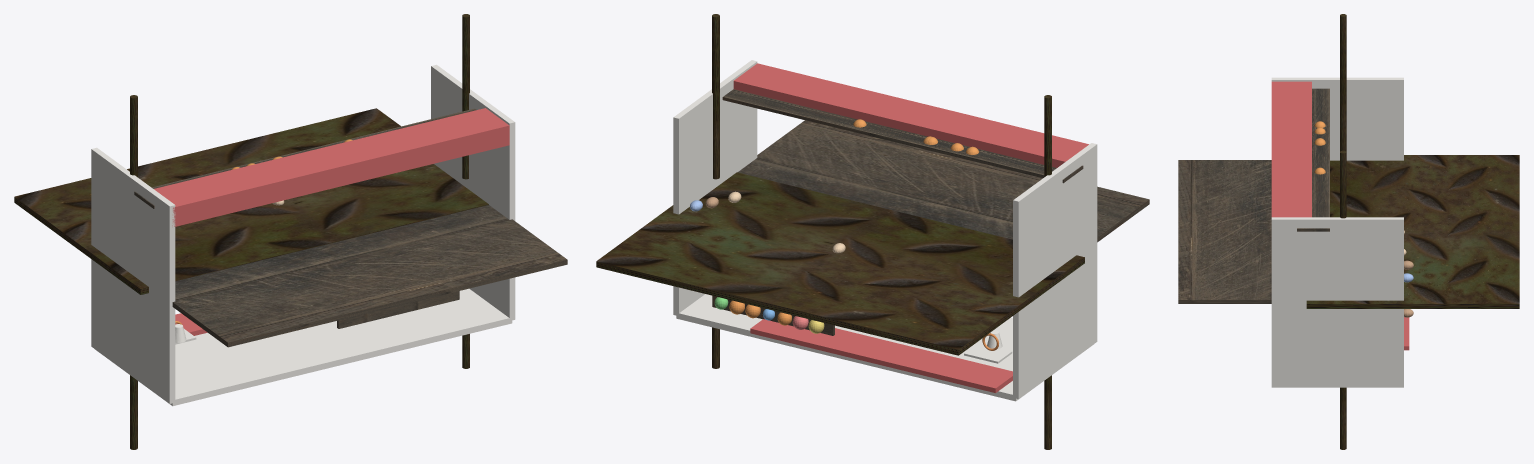
The model's file is booth_complete.glb.
3 renders of one model, left to right at view 1: azimuth 30°, elevation 25°; view 2: azimuth 150°, elevation 25°; view 3: azimuth 270°, elevation 25°, orthographic. The views are drawn at different scales.
Parts seen in each view (by area): view 1: Floor, Roof, SideWall_L, Counter, BackWall, SideWall_R, Shelf_0, CounterTop, Post_1_1, Post_-1_1, Post_-1_-1; view 2: Roof, Floor, SideWall_L, Counter, SideWall_R, Sign, CounterTop, BackWall, Post_1_1, Post_-1_1, Post_-1_-1, Backboard_0; view 3: Roof, SideWall_R, Floor, SideWall_L, Counter, CounterTop, Post_-1_1, Post_1_1, Post_1_-1.
Part boxes in pixels (bbox=[...]): Floor: bbox=[172, 205, 567, 347]; Roof: bbox=[14, 108, 488, 294]; SideWall_L: bbox=[91, 147, 175, 403]; Counter: bbox=[154, 108, 509, 226]; BackWall: bbox=[96, 288, 512, 406]; SideWall_R: bbox=[431, 64, 515, 320]; Shelf_0: bbox=[337, 291, 459, 328]; CounterTop: bbox=[134, 108, 476, 208]; Post_1_1: bbox=[462, 14, 469, 179]; Post_-1_1: bbox=[130, 95, 137, 177]; Post_-1_-1: bbox=[130, 375, 137, 449]; Roof: bbox=[596, 172, 1084, 355]; Floor: bbox=[737, 120, 1149, 242]; SideWall_L: bbox=[1013, 143, 1097, 399]; Counter: bbox=[733, 63, 1088, 167]; SideWall_R: bbox=[673, 60, 757, 316]; Sign: bbox=[750, 319, 1012, 392]; CounterTop: bbox=[722, 89, 1083, 183]; BackWall: bbox=[676, 294, 1093, 401]; Post_1_1: bbox=[712, 14, 719, 179]; Post_-1_1: bbox=[1044, 95, 1051, 176]; Post_-1_-1: bbox=[1044, 375, 1051, 449]; Backboard_0: bbox=[964, 343, 1012, 363]; Roof: bbox=[1306, 155, 1519, 308]; SideWall_R: bbox=[1271, 217, 1403, 386]; Floor: bbox=[1178, 160, 1271, 303]; SideWall_L: bbox=[1271, 77, 1403, 160]; Counter: bbox=[1271, 81, 1311, 217]; CounterTop: bbox=[1297, 88, 1329, 231]; Post_-1_1: bbox=[1340, 14, 1346, 151]; Post_1_1: bbox=[1340, 150, 1346, 218]; Post_1_-1: bbox=[1340, 387, 1346, 449].
Bounding box in the file's own units: 9.6 × 8.9 × 9.29.
Materials: 47 (2 with a texture image).
